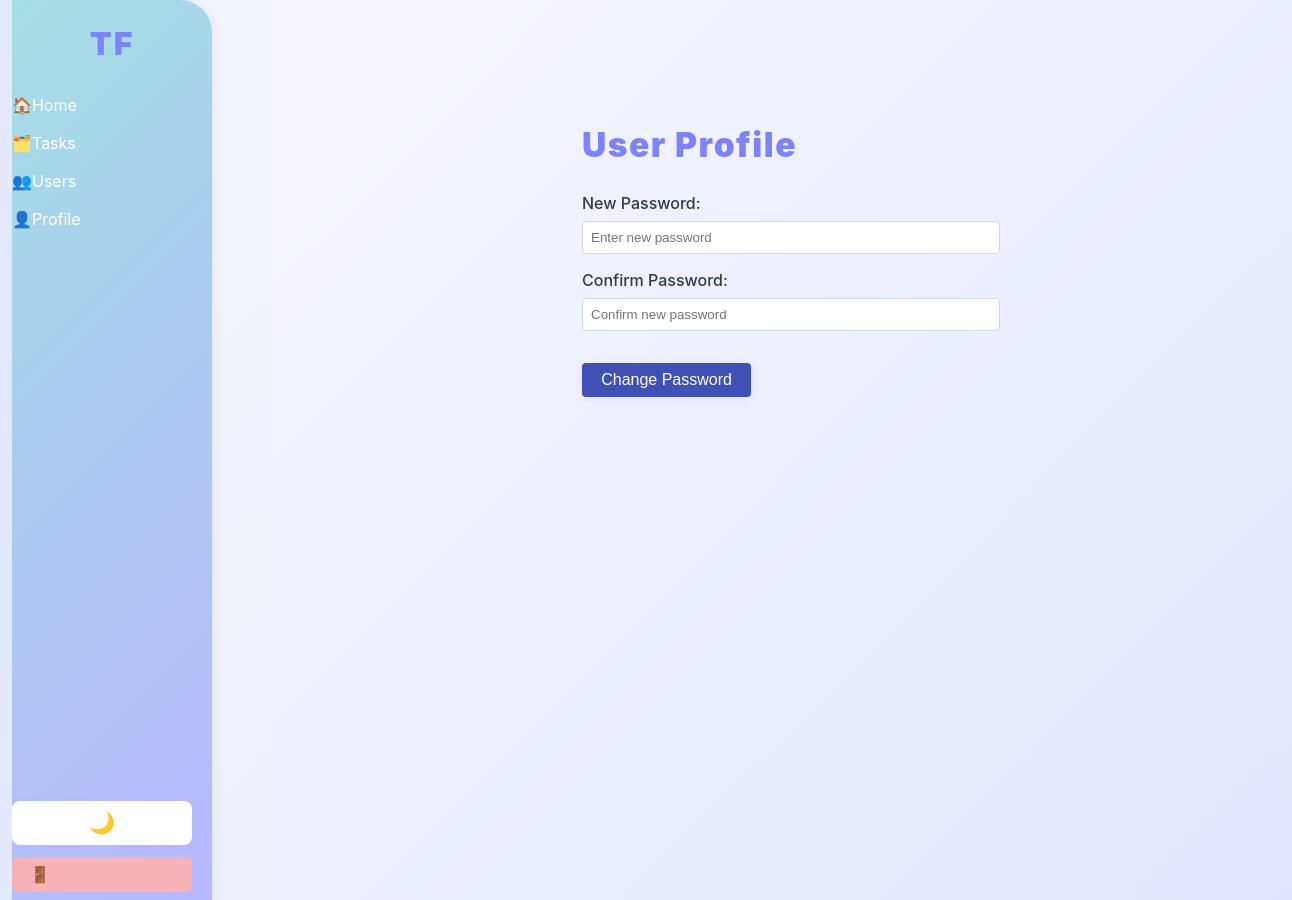
Test: shows error if password is empty
Click the button "Change Password".
click(667, 380)  # box 582,363 -> 751,397
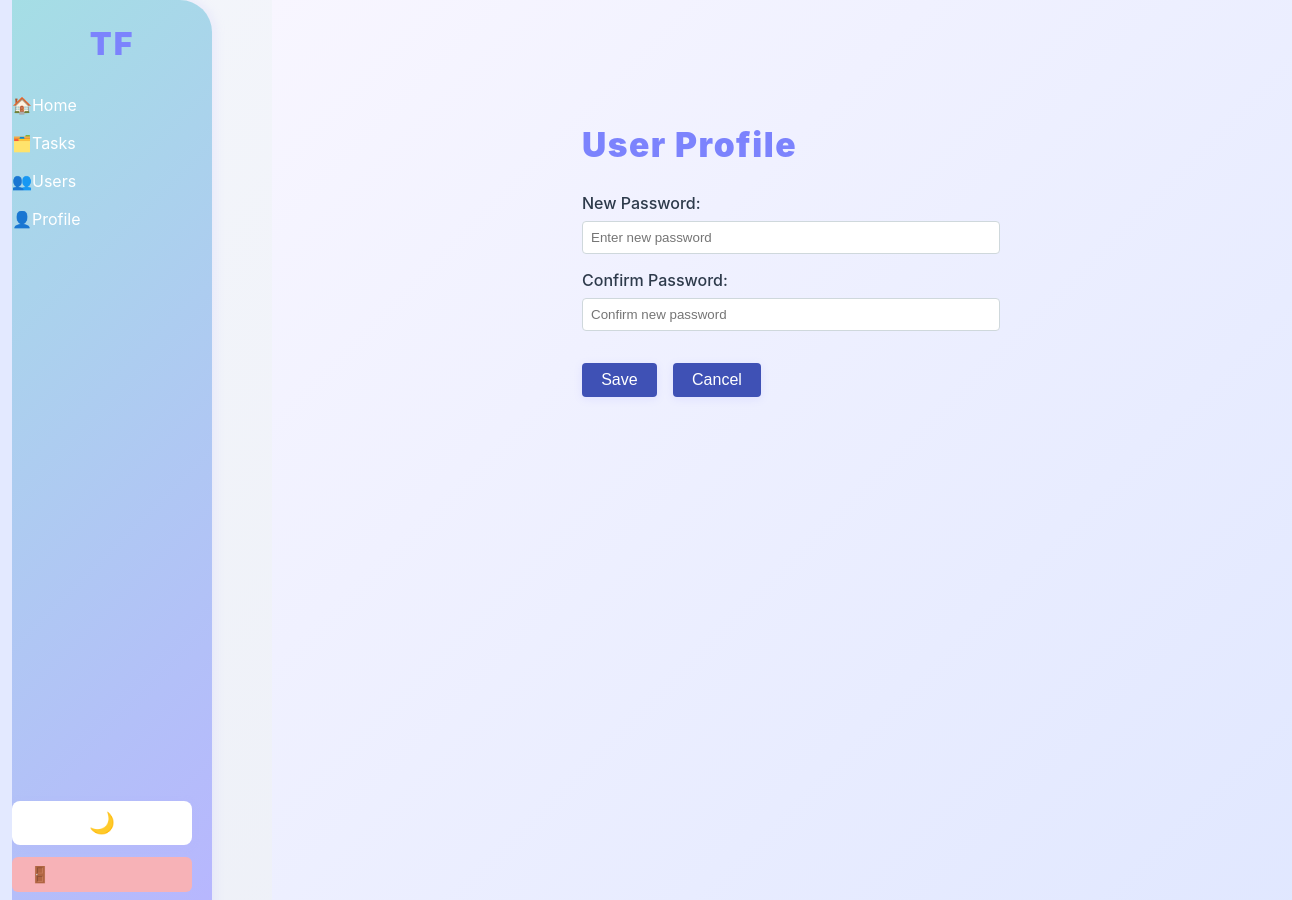
Click the button "Save".
click(619, 380)  # box 582,363 -> 657,397
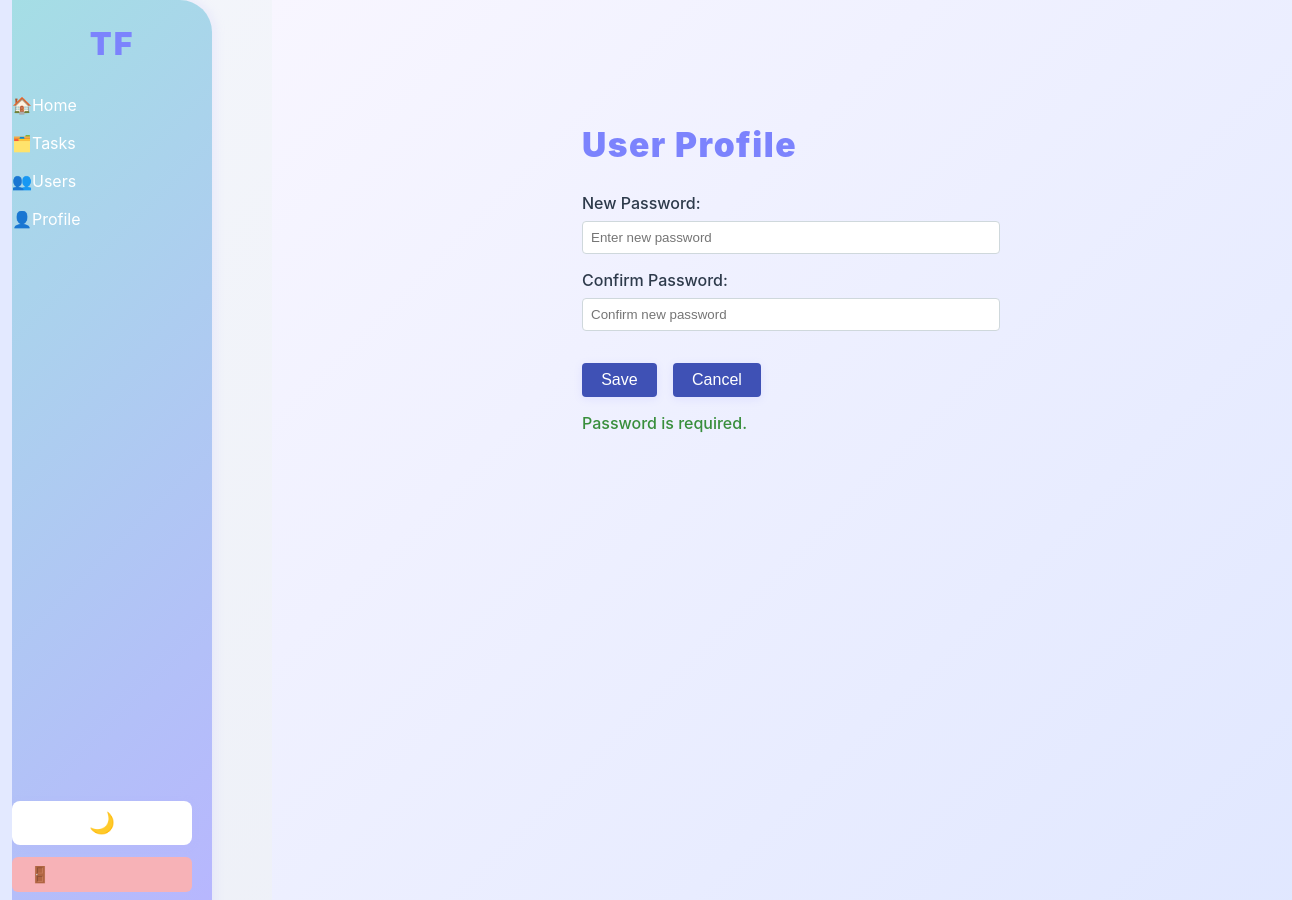
Check: the text "Password is required." is shown, box 582,413 -> 747,433
